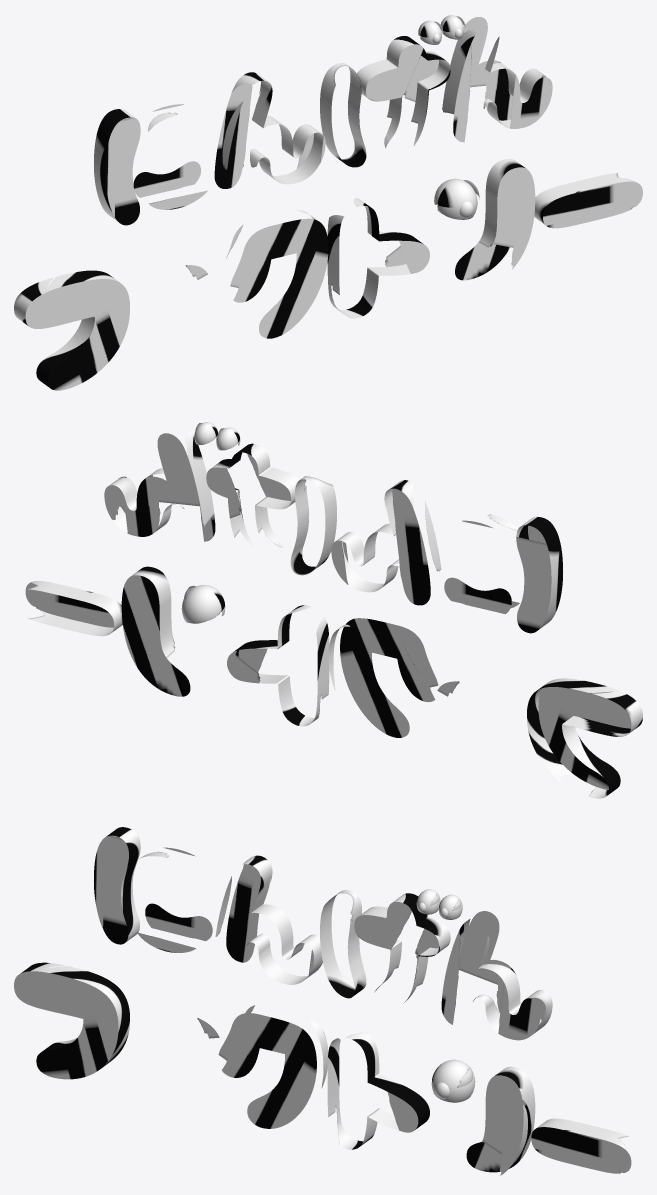
The model's file is title.obj.
The picture shows the model from 3 angles, top to bottom: view 1: azimuth 30°, elevation 25°; view 2: azimuth 150°, elevation 25°; view 3: azimuth 330°, elevation 25°; orthographic projection.
Parts seen in each view (by area): view 1: factory.001, ge.004, n.005, ni.002, n.003; view 2: factory.001, ge.004, n.005, ni.002, n.003; view 3: factory.001, ge.004, n.005, ni.002, n.003.
Boxes of the visible parts, <box> form: factory.001: <box>14,159,642,390</box>; ge.004: <box>320,15,465,167</box>; n.005: <box>442,17,552,142</box>; ni.002: <box>94,104,207,225</box>; n.003: <box>214,72,325,188</box>; factory.001: <box>25,566,642,798</box>; ge.004: <box>194,422,336,575</box>; n.005: <box>104,430,215,541</box>; ni.002: <box>444,514,562,633</box>; n.003: <box>331,480,441,605</box>; factory.001: <box>14,962,631,1175</box>; ge.004: <box>320,889,462,1003</box>; n.005: <box>441,911,552,1040</box>; ni.002: <box>94,827,212,952</box>; n.003: <box>215,855,322,984</box>.
Size of the model in its own units: 3.07 by 1.32 by 0.2177.
3 materials, 3 textured.
